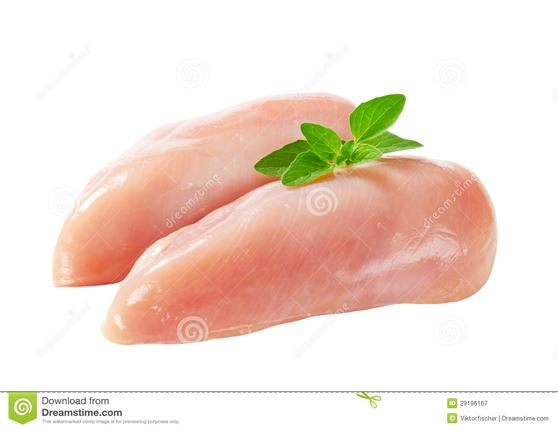chicken_fillet: (114, 162, 499, 345)
